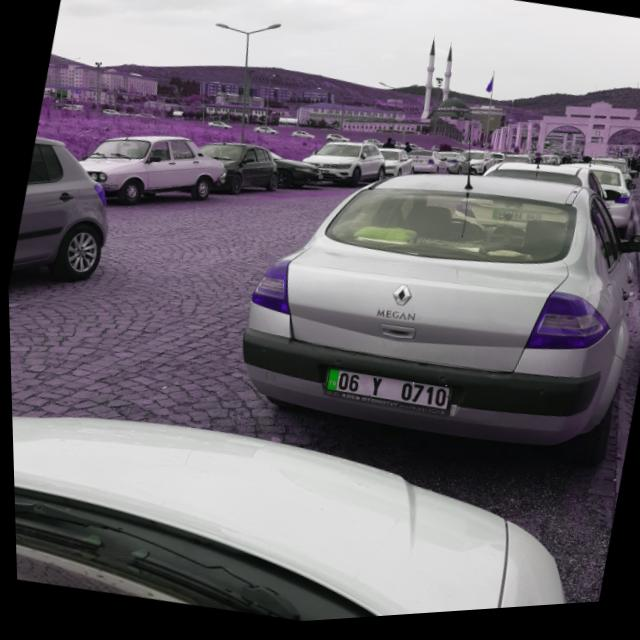license_plate: (321, 366, 450, 425)
